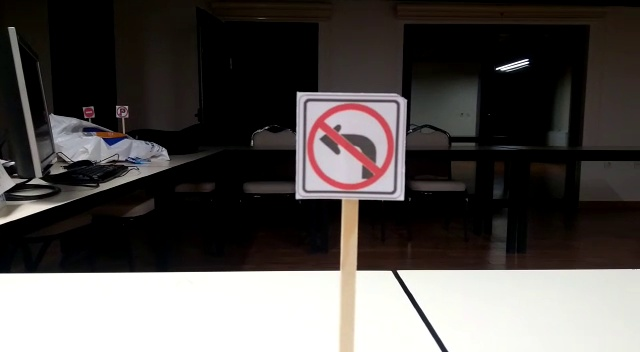sola_donulmez: (298, 99, 400, 198)
